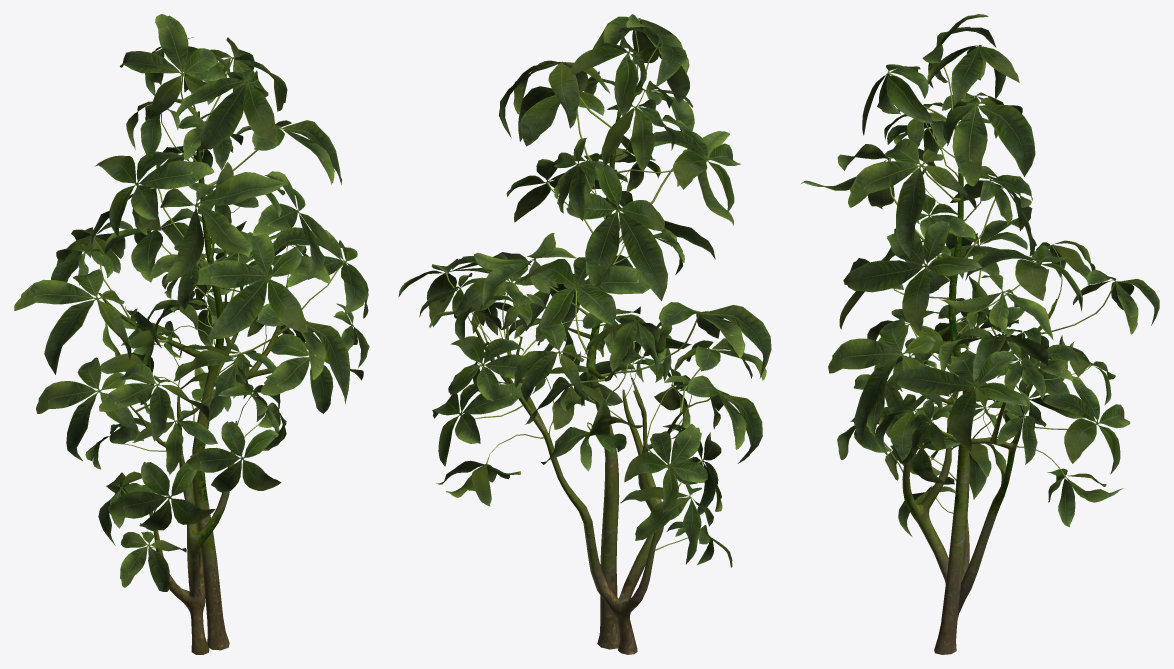
Rendered from pachira_b.glb.
3 renders of one model, left to right at view 1: azimuth 30°, elevation 25°; view 2: azimuth 150°, elevation 25°; view 3: azimuth 270°, elevation 25°, orthographic. The views are drawn at different scales.
Visible parts, largest first — view 1: pachira_aquatica_01_leaves_d, pachira_aquatica_01_bark_d; view 2: pachira_aquatica_01_leaves_d, pachira_aquatica_01_bark_d; view 3: pachira_aquatica_01_leaves_d, pachira_aquatica_01_bark_d.
Part boxes in pixels (x1,y1,x2,y2): pachira_aquatica_01_leaves_d: (14,14,369,591); pachira_aquatica_01_bark_d: (99,111,287,654); pachira_aquatica_01_leaves_d: (398,14,771,567); pachira_aquatica_01_bark_d: (471,112,689,654); pachira_aquatica_01_leaves_d: (801,14,1159,536); pachira_aquatica_01_bark_d: (902,126,1057,654).
Bounding box in the file's own units: 1.05 × 1.9 × 0.997.
Materials: 2 (2 with a texture image).
